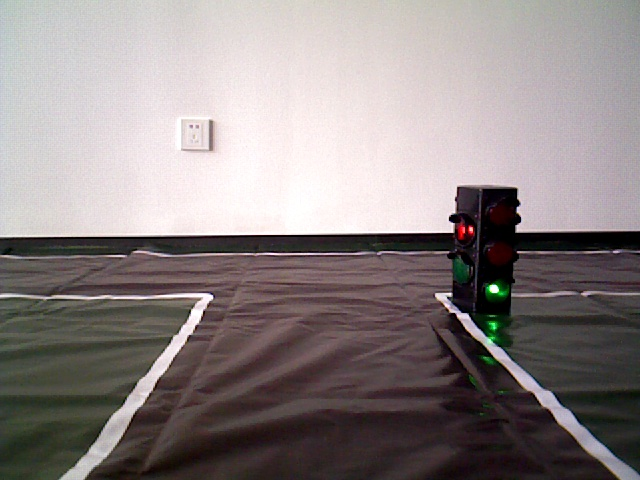green: (451, 189, 510, 303)
